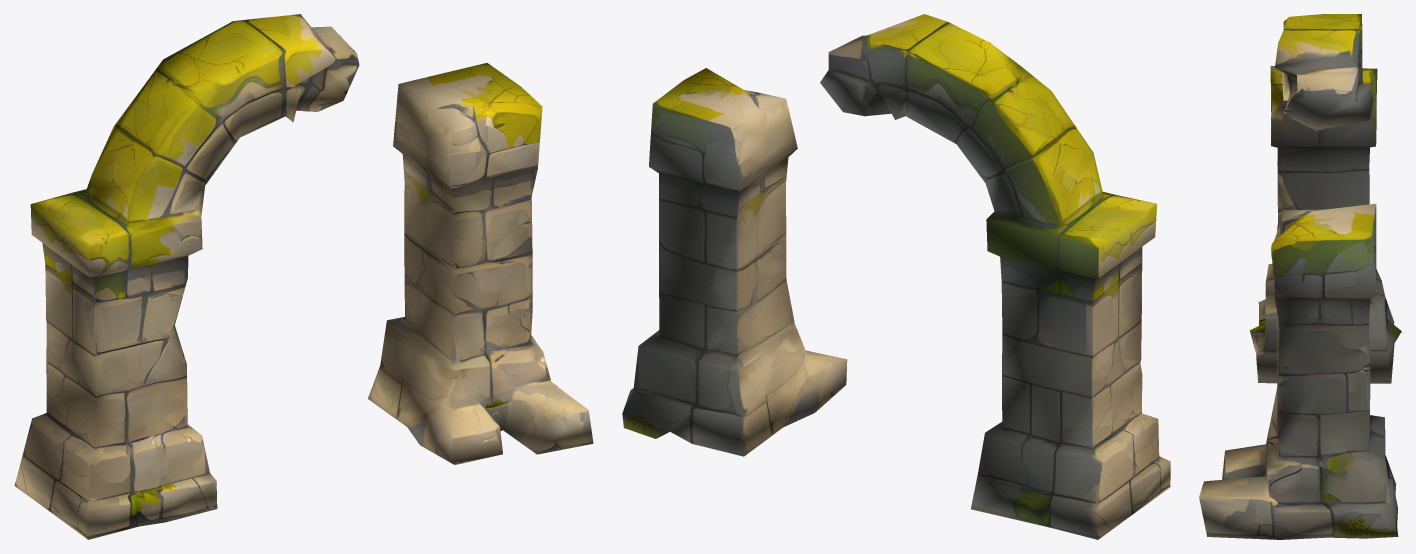
The model's file is arena_arch_front.glb.
The picture shows the model from 3 angles, left to right: view 1: azimuth 30°, elevation 25°; view 2: azimuth 150°, elevation 25°; view 3: azimuth 270°, elevation 25°; orthographic projection. The views are drawn at different scales.
Parts seen in each view (by area): view 1: tripo_node_cfdb2441-5c72-4414-8ca0-de61d7ba77bd; view 2: tripo_node_cfdb2441-5c72-4414-8ca0-de61d7ba77bd; view 3: tripo_node_cfdb2441-5c72-4414-8ca0-de61d7ba77bd.
Boxes of the visible parts, bbox=[...] form: tripo_node_cfdb2441-5c72-4414-8ca0-de61d7ba77bd: bbox=[14, 14, 593, 539]; tripo_node_cfdb2441-5c72-4414-8ca0-de61d7ba77bd: bbox=[622, 14, 1170, 539]; tripo_node_cfdb2441-5c72-4414-8ca0-de61d7ba77bd: bbox=[1199, 14, 1401, 539].
Size of the model in its own units: 0.9957 by 0.8408 by 0.3929.
Materials: 1 (1 with a texture image).
